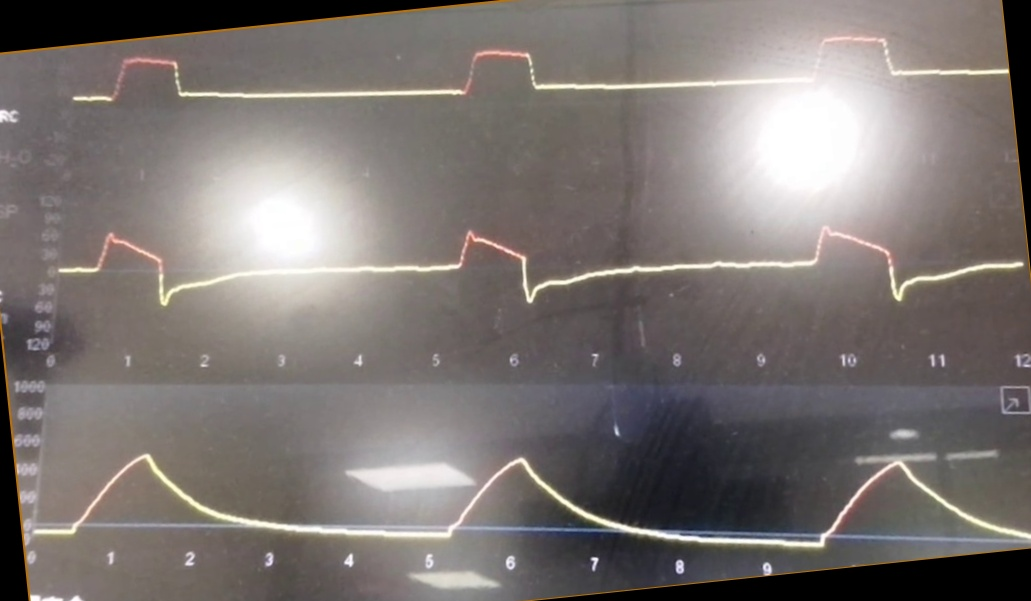Normal Flow: (61, 187, 1017, 327)
Normal Volume: (39, 421, 1031, 550)
